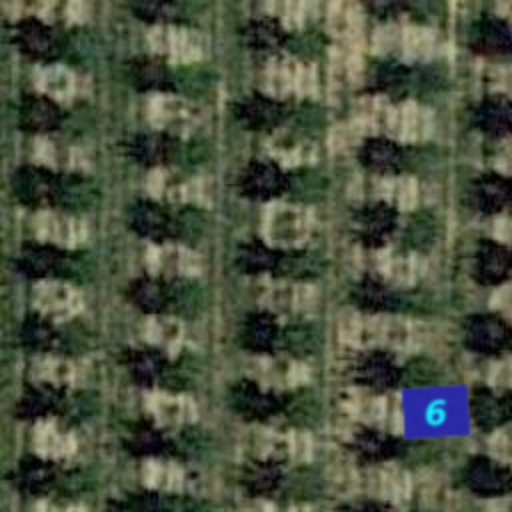rectangle: (400, 376, 472, 448)
